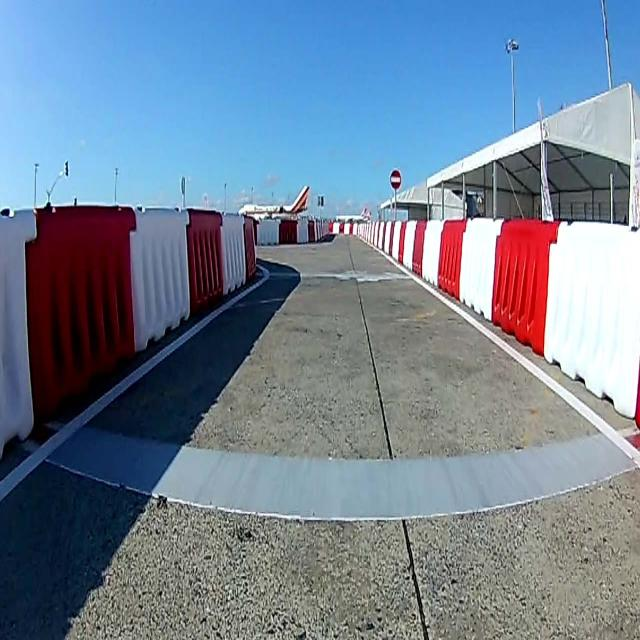girisyok: (389, 168, 402, 189)
